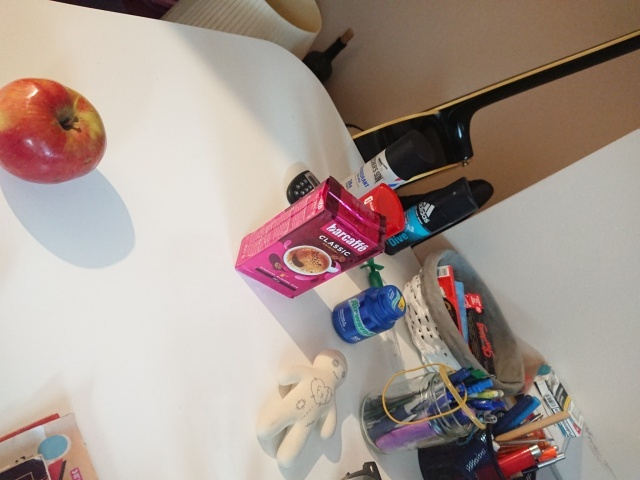Barcaffe Classic Original 225g: (232, 173, 389, 300)
